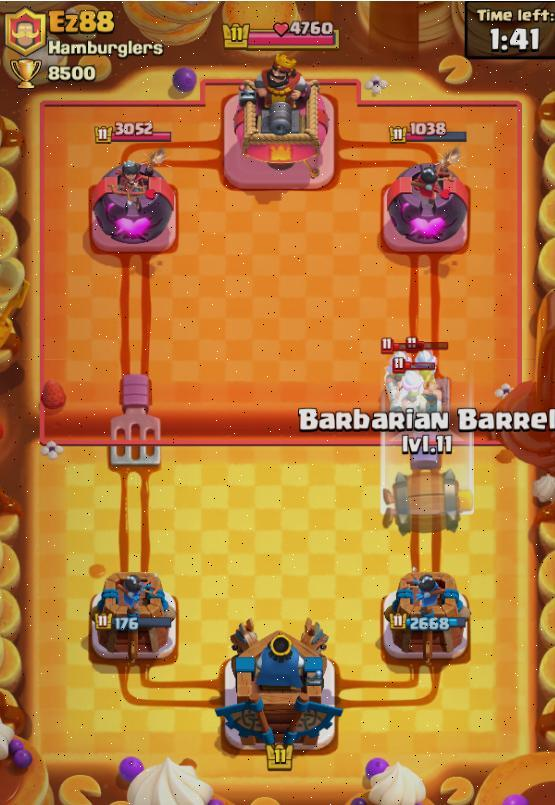EKingTower: (223, 64, 334, 190)
EMusk: (386, 355, 427, 429), (382, 338, 413, 384), (412, 341, 446, 381)
EnemyPrincessTower: (382, 158, 469, 253), (90, 160, 176, 253)
OwnKingTower: (216, 619, 341, 750)
OwnPrincessTower: (382, 571, 469, 662), (91, 574, 175, 662)
